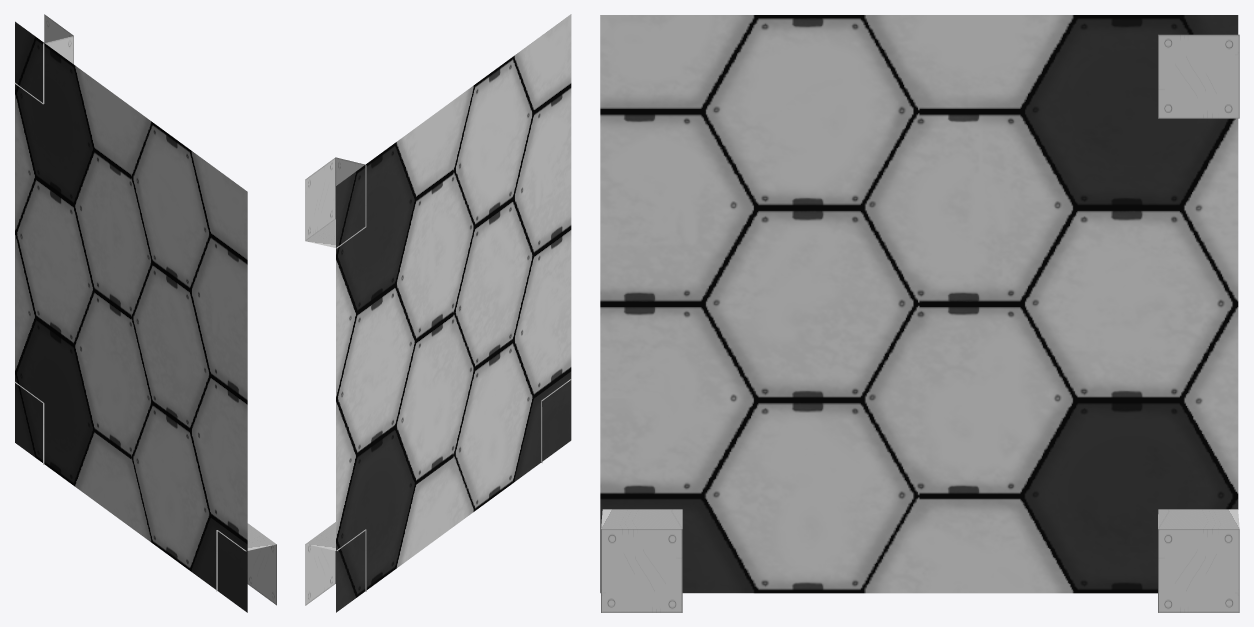
File: Wall_CornerL2.fbx
3 renders of one model, left to right at view 1: azimuth 30°, elevation 25°; view 2: azimuth 150°, elevation 25°; view 3: azimuth 270°, elevation 25°, orthographic. The views are drawn at different scales.
Visible parts, largest first — view 1: pPlane116; view 2: pPlane116; view 3: pPlane116.
Boxes of the visible parts, left/top/right/bottom form: pPlane116: left=14, top=14, right=276, bottom=612; pPlane116: left=305, top=14, right=571, bottom=612; pPlane116: left=600, top=15, right=1239, bottom=612.
Bounding box in the file's own units: 0.1534 × 2 × 2.
